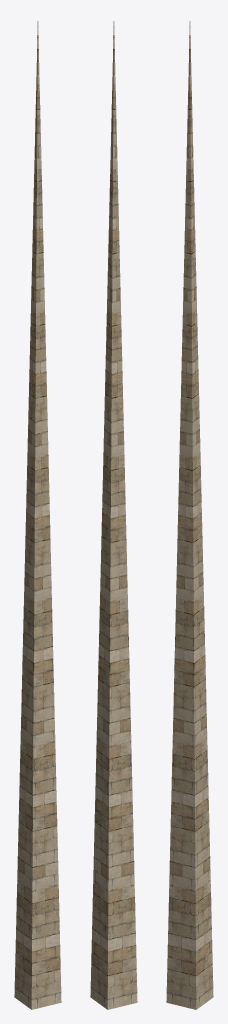
Rendered from thm_nboo_thed_imprv_obelisk_s01_l2.fbx.
3 renders of one model, left to right at view 1: azimuth 30°, elevation 25°; view 2: azimuth 210°, elevation 25°; view 3: azimuth 330°, elevation 25°, orthographic.
Parts seen in each view (by area): view 1: mesh_node; view 2: mesh_node; view 3: mesh_node.
Boxes of the visible parts, box(x1,y1,x2,y2) form: mesh_node: box(14, 21, 61, 1009); mesh_node: box(90, 21, 137, 1009); mesh_node: box(166, 21, 213, 1009).
Bounding box in the file's own units: 0.6332 × 19.98 × 0.6332.
Materials: 1 (1 with a texture image).
